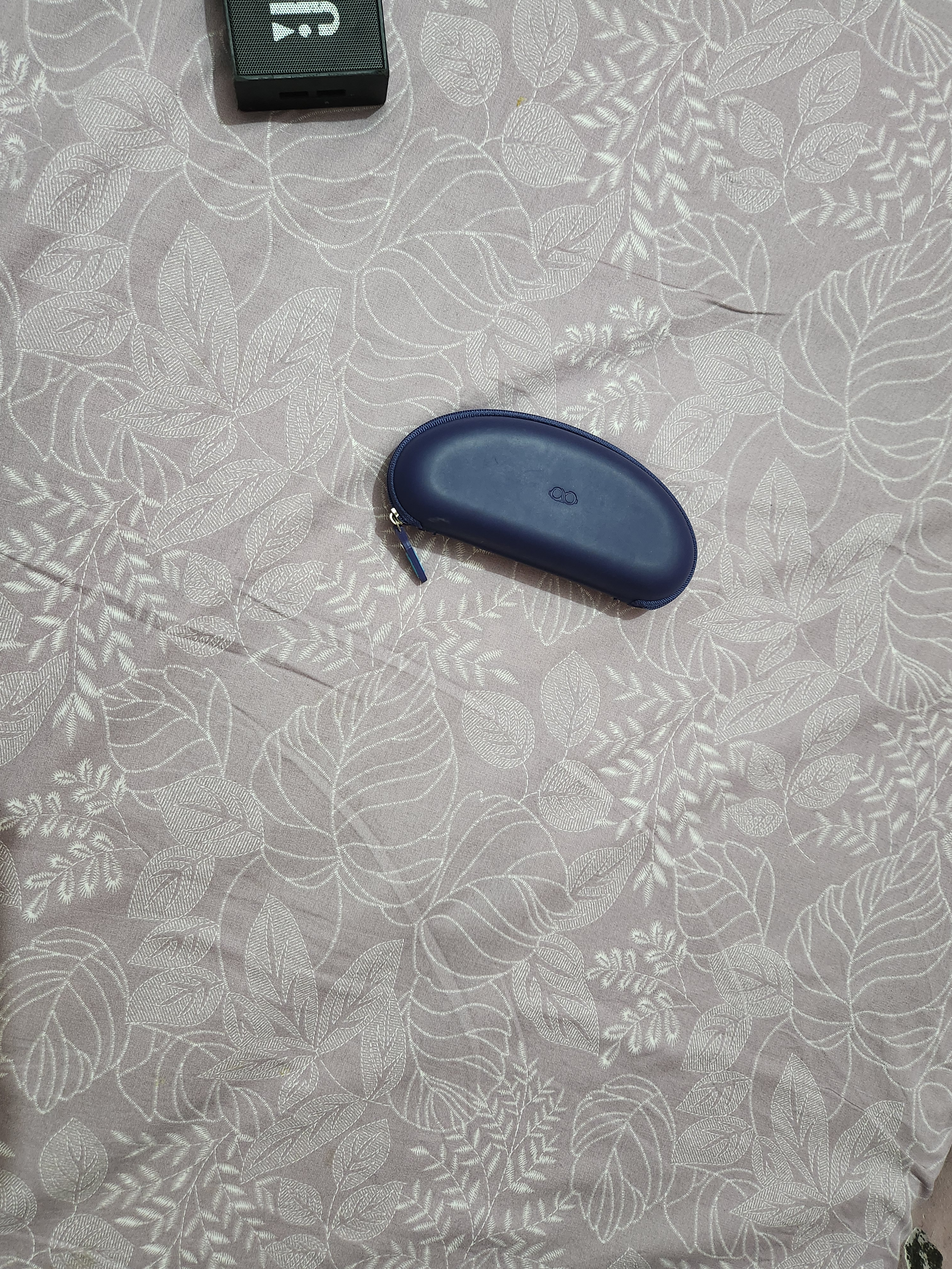case: (372, 400, 699, 620)
speaker: (201, 1, 395, 120)
